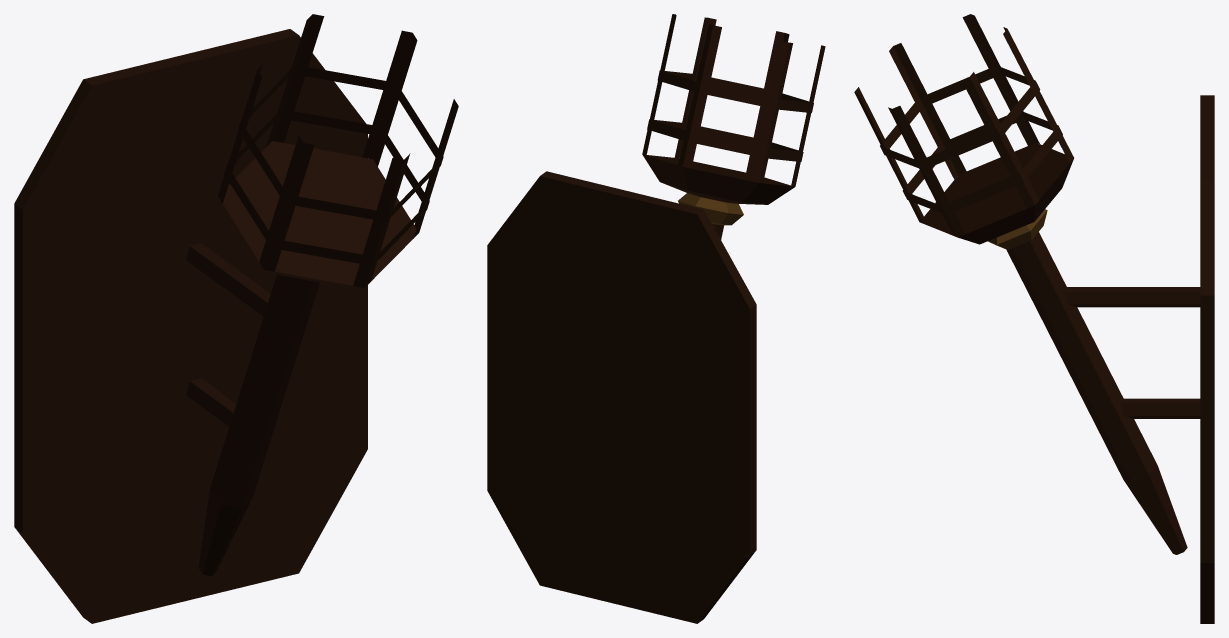
File: wall_torch.glb
3 renders of one model, left to right at view 1: azimuth 30°, elevation 25°; view 2: azimuth 150°, elevation 25°; view 3: azimuth 270°, elevation 25°, orthographic. The views are drawn at different scales.
Visible parts, largest first — view 1: Cube, Sphere.001, Cylinder, Circle.001, Circle, Cylinder.002, Cylinder.001; view 2: Cube, Sphere.001, Circle, Circle.001, Sphere; view 3: Sphere.001, Cylinder, Cube, Circle.001, Cylinder.002, Circle, Cylinder.001, Sphere.
Part boxes in pixels (bbox=[...]): Cube: bbox=[14, 29, 367, 623]; Sphere.001: bbox=[218, 14, 458, 287]; Cylinder: bbox=[198, 274, 319, 576]; Circle.001: bbox=[238, 67, 443, 221]; Circle: bbox=[224, 111, 429, 265]; Cylinder.002: bbox=[186, 243, 270, 316]; Cylinder.001: bbox=[186, 378, 236, 426]; Cube: bbox=[487, 171, 756, 623]; Sphere.001: bbox=[642, 14, 825, 204]; Circle: bbox=[647, 119, 803, 161]; Circle.001: bbox=[657, 70, 813, 112]; Sphere: bbox=[678, 193, 743, 225]; Sphere.001: bbox=[854, 14, 1073, 244]; Cylinder: bbox=[1006, 232, 1187, 554]; Cube: bbox=[1200, 95, 1214, 623]; Circle.001: bbox=[880, 67, 1040, 169]; Cylinder.002: bbox=[1064, 287, 1200, 307]; Circle: bbox=[902, 112, 1062, 214]; Cylinder.001: bbox=[1121, 398, 1200, 418]; Sphere: bbox=[988, 209, 1047, 249].
Bounding box in the file's own units: 12.09 × 22.42 × 13.23.
